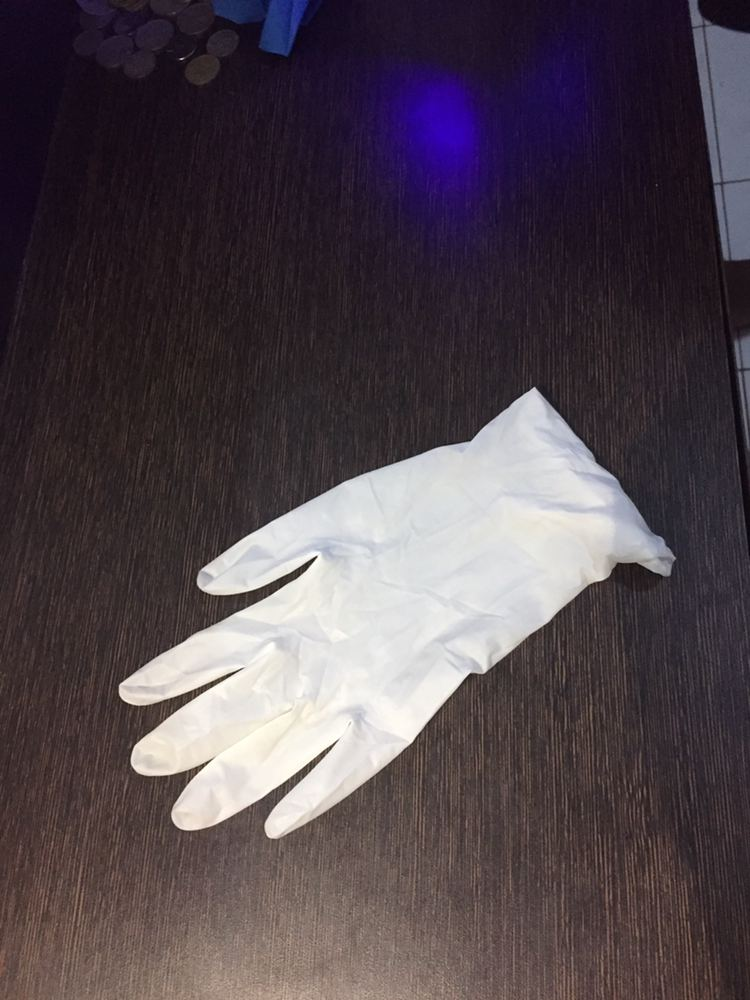glove: (120, 337, 684, 883)
